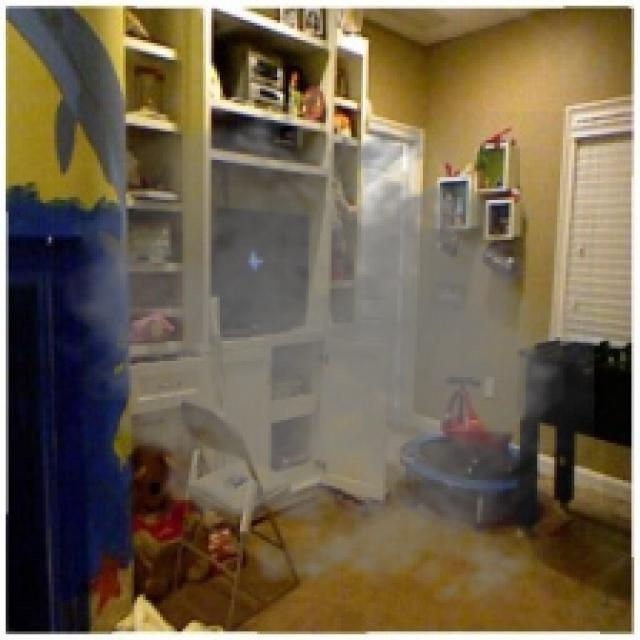Smoke: (39, 100, 594, 617)
